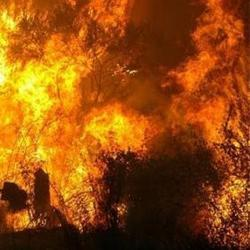fire: (3, 63, 76, 110), (6, 113, 66, 169), (179, 62, 229, 127), (81, 108, 147, 153), (197, 11, 242, 61)
